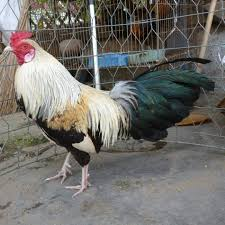Gà/Chicken: (1, 21, 219, 201)
